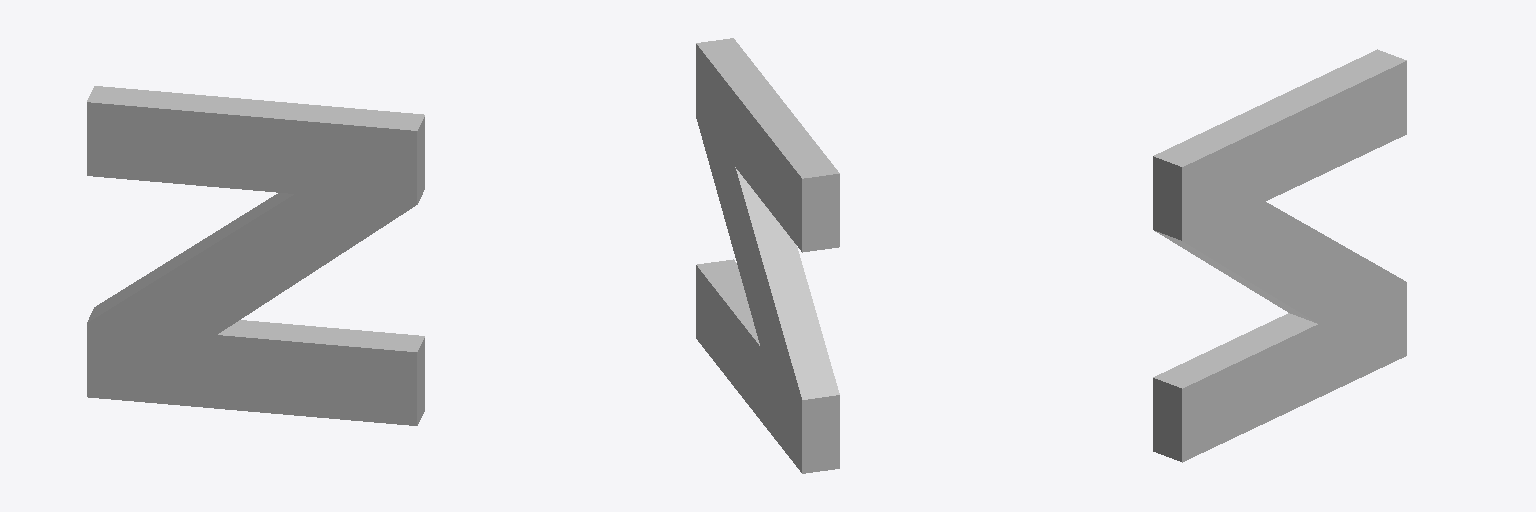
File: letter_z.obj
3 renders of one model, left to right at view 1: azimuth 30°, elevation 25°; view 2: azimuth 150°, elevation 25°; view 3: azimuth 270°, elevation 25°, orthographic.
Parts seen in each view (by area): view 1: Cube.001; view 2: Cube.001; view 3: Cube.001.
Boxes of the visible parts, x1=… form: Cube.001: x1=87, y1=86, x2=424, y2=425; Cube.001: x1=696, y1=38, x2=839, y2=473; Cube.001: x1=1153, y1=49, x2=1406, y2=462.
Bounding box in the file's own units: 0.4723 × 0.5519 × 0.4308.